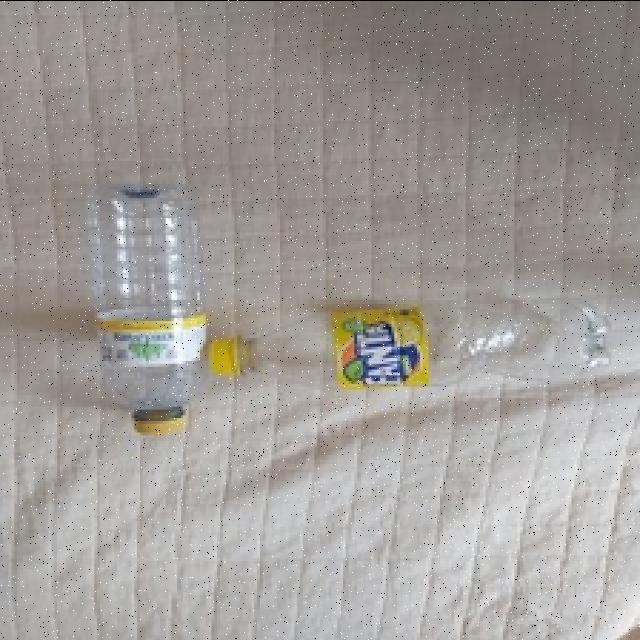plastic: (206, 295, 614, 399), (88, 176, 206, 444)
